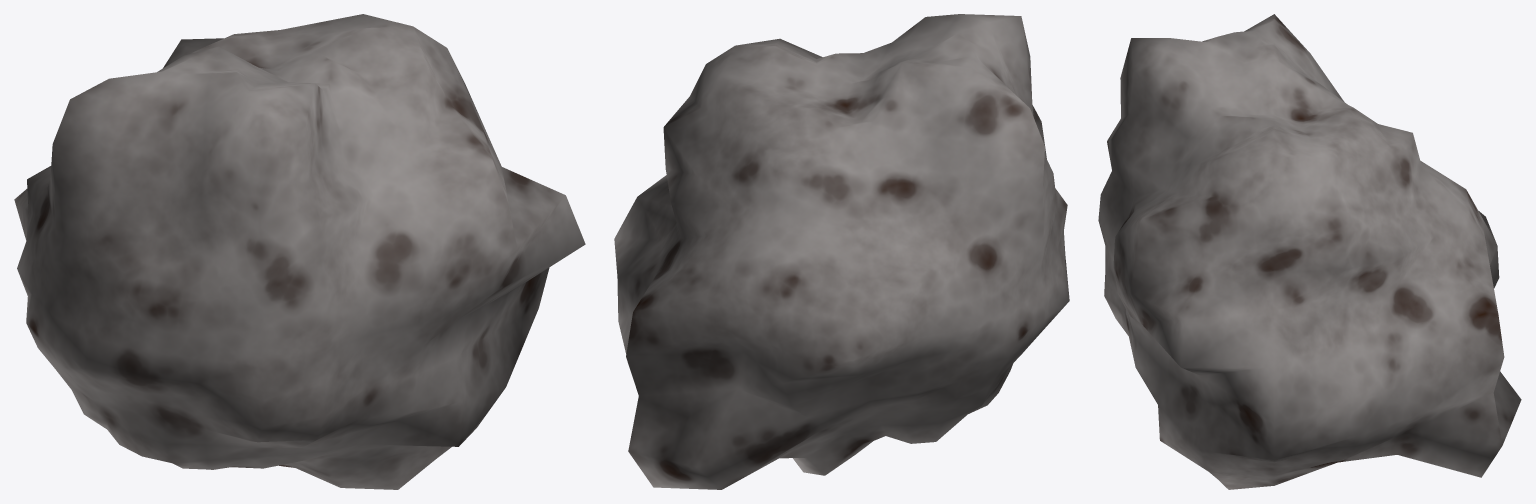
The model's file is Asteroid1.glb.
The picture shows the model from 3 angles, left to right: view 1: azimuth 30°, elevation 25°; view 2: azimuth 150°, elevation 25°; view 3: azimuth 270°, elevation 25°; orthographic projection. The views are drawn at different scales.
Visible parts, largest first — view 1: asteroid 1; view 2: asteroid 1; view 3: asteroid 1.
Part boxes in pixels (x1,y1,x2,y2): asteroid 1: (14,14,585,489); asteroid 1: (614,14,1069,489); asteroid 1: (1098,14,1521,489).
Bounding box in the file's own units: 3.69 × 3.3 × 3.34.
1 material, 1 textured.
